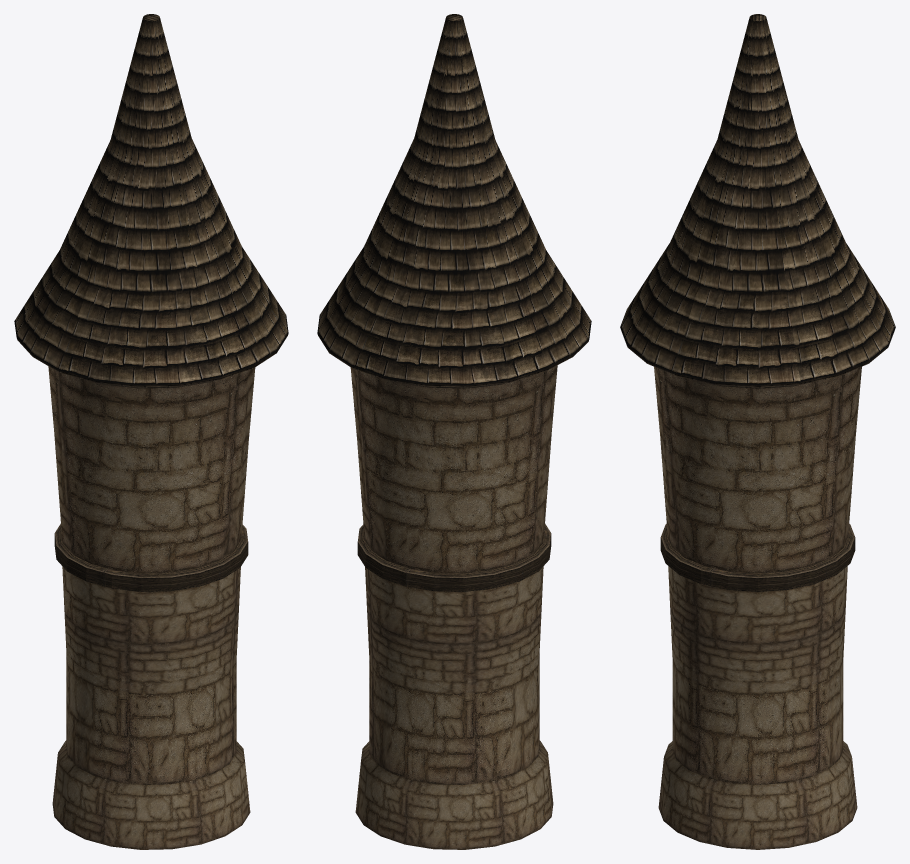
Rendered from Tower_05.fbx.
The picture shows the model from 3 angles, left to right: view 1: azimuth 30°, elevation 25°; view 2: azimuth 150°, elevation 25°; view 3: azimuth 270°, elevation 25°; orthographic projection.
Visible parts, largest first — view 1: Tower_05; view 2: Tower_05; view 3: Tower_05.
Boxes of the visible parts, x1=… form: Tower_05: x1=14, y1=14, x2=288, y2=849; Tower_05: x1=317, y1=14, x2=591, y2=849; Tower_05: x1=620, y1=14, x2=895, y2=849.
Bounding box in the file's own units: 10.71 × 33.88 × 10.71.
